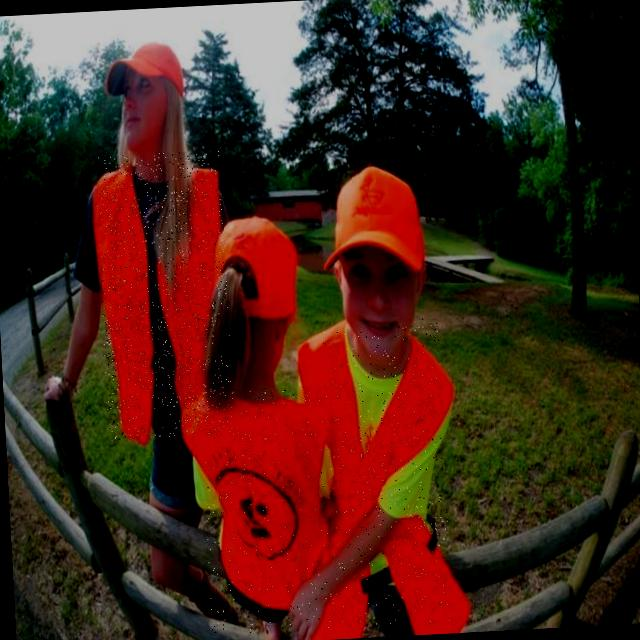vest: (322, 317, 454, 628), (93, 150, 234, 440), (200, 385, 336, 635)
